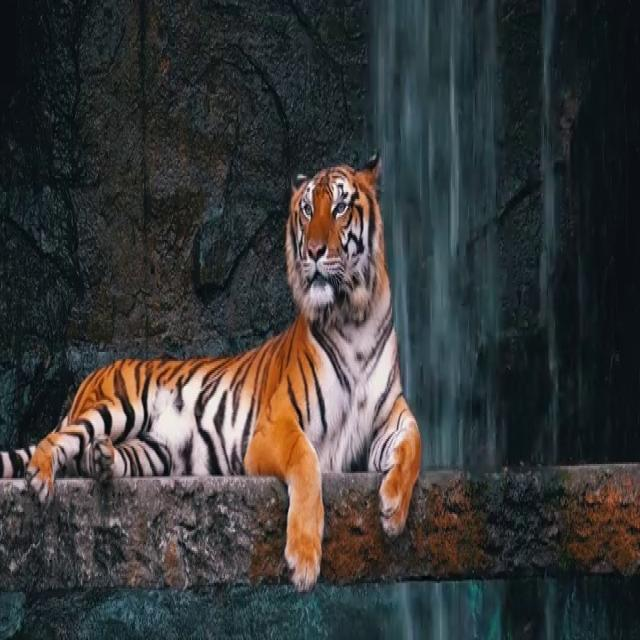tiger: (0, 148, 422, 590)
